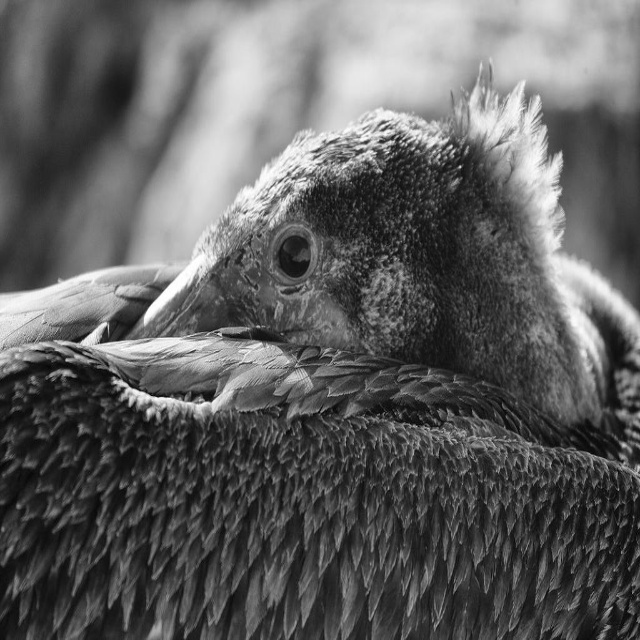Goose: (0, 50, 640, 639)
